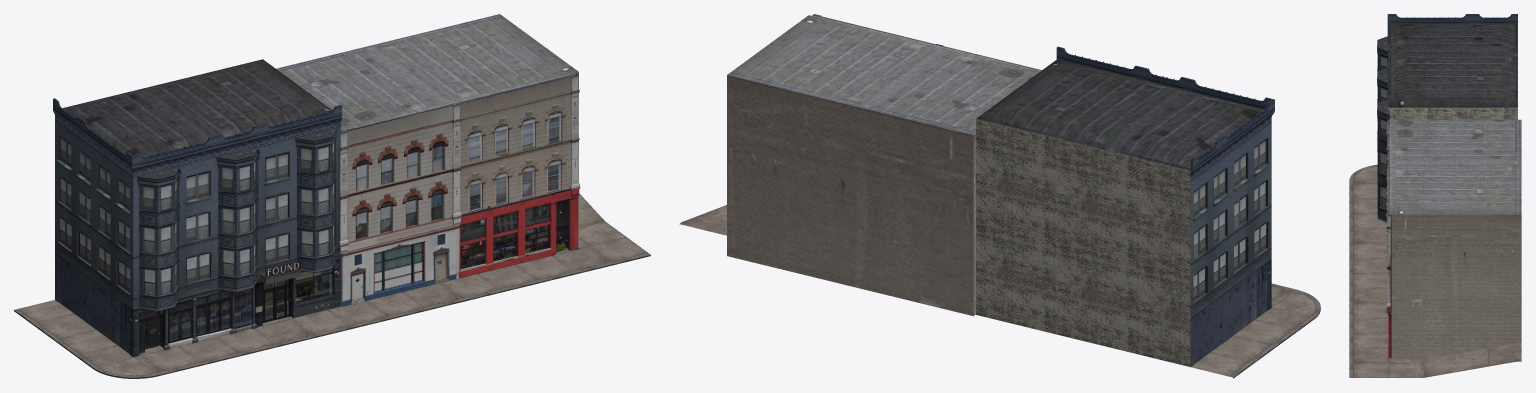
File: building2.glb
3 views of the same model, side by side, from view 1: azimuth 30°, elevation 25°; view 2: azimuth 150°, elevation 25°; view 3: azimuth 270°, elevation 25° (orthographic). The views are drawn at different scales.
Visible parts, largest first — view 1: Building black_3, Building_6, Sidewalks_2; view 2: Building_6, Bricks_4, Building black_3, Sidewalks_2; view 3: Building_6, Building black_3, Sidewalks_2, Bricks_4.
Boxes of the visible parts, x1,y1,x2,y2 form: Building black_3: [53, 59, 342, 356]; Building_6: [276, 14, 580, 306]; Sidewalks_2: [14, 193, 650, 378]; Building_6: [727, 14, 1041, 316]; Bricks_4: [976, 119, 1190, 366]; Building black_3: [976, 46, 1274, 366]; Sidewalks_2: [679, 205, 1320, 378]; Building_6: [1386, 119, 1521, 359]; Building black_3: [1377, 14, 1517, 221]; Sidewalks_2: [1349, 164, 1521, 377]; Bricks_4: [1388, 107, 1517, 119].
Bounding box in the file's own units: 198 × 71.86 × 67.26.
5 materials, 5 textured.
